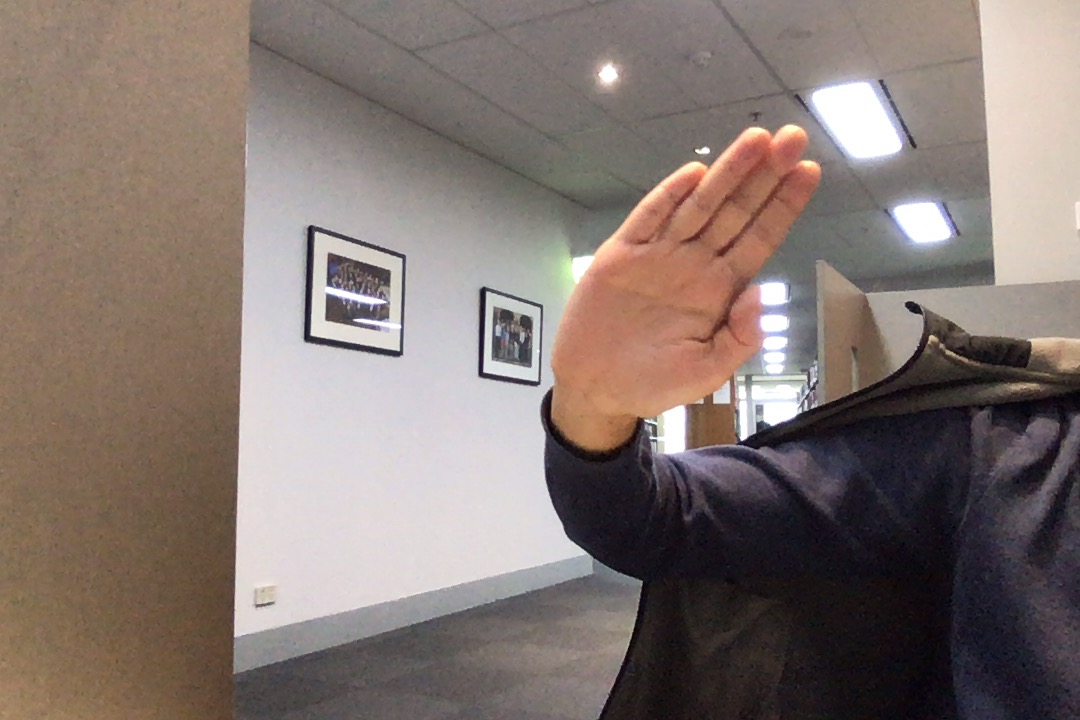palmhand: (544, 114, 830, 425)
